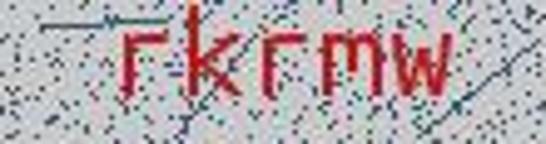k: (178, 1, 247, 109)
m: (317, 25, 386, 113)
r: (254, 22, 311, 114), (113, 20, 171, 109)
w: (389, 22, 460, 106)
